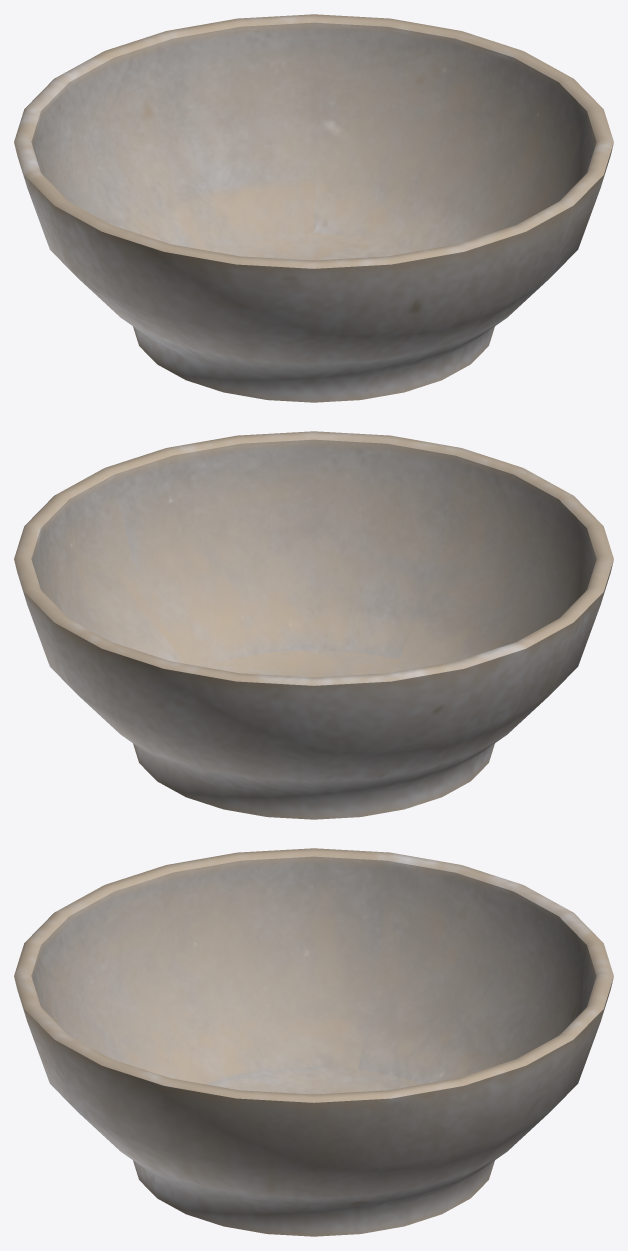
The model's file is Bowl.fbx.
The picture shows the model from 3 angles, top to bottom: view 1: azimuth 30°, elevation 25°; view 2: azimuth 150°, elevation 25°; view 3: azimuth 270°, elevation 25°; orthographic projection.
Visible parts, largest first — view 1: Bowl; view 2: Bowl; view 3: Bowl.
Boxes of the visible parts, bbox=[...] form: Bowl: bbox=[14, 14, 613, 402]; Bowl: bbox=[14, 431, 613, 819]; Bowl: bbox=[14, 848, 613, 1236].
Size of the model in its own units: 13.89 by 4.77 by 13.89.
1 material, 1 textured.
